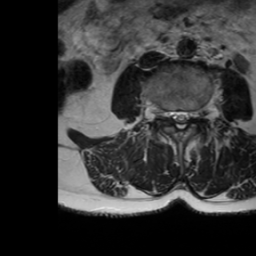CCS_normal: (176, 101, 183, 136)
LFS_normal: (191, 101, 200, 126)
LLS_stenosis: (183, 102, 191, 130)
RFS_normal: (162, 101, 169, 126)
RLS_normal: (169, 101, 177, 128)
